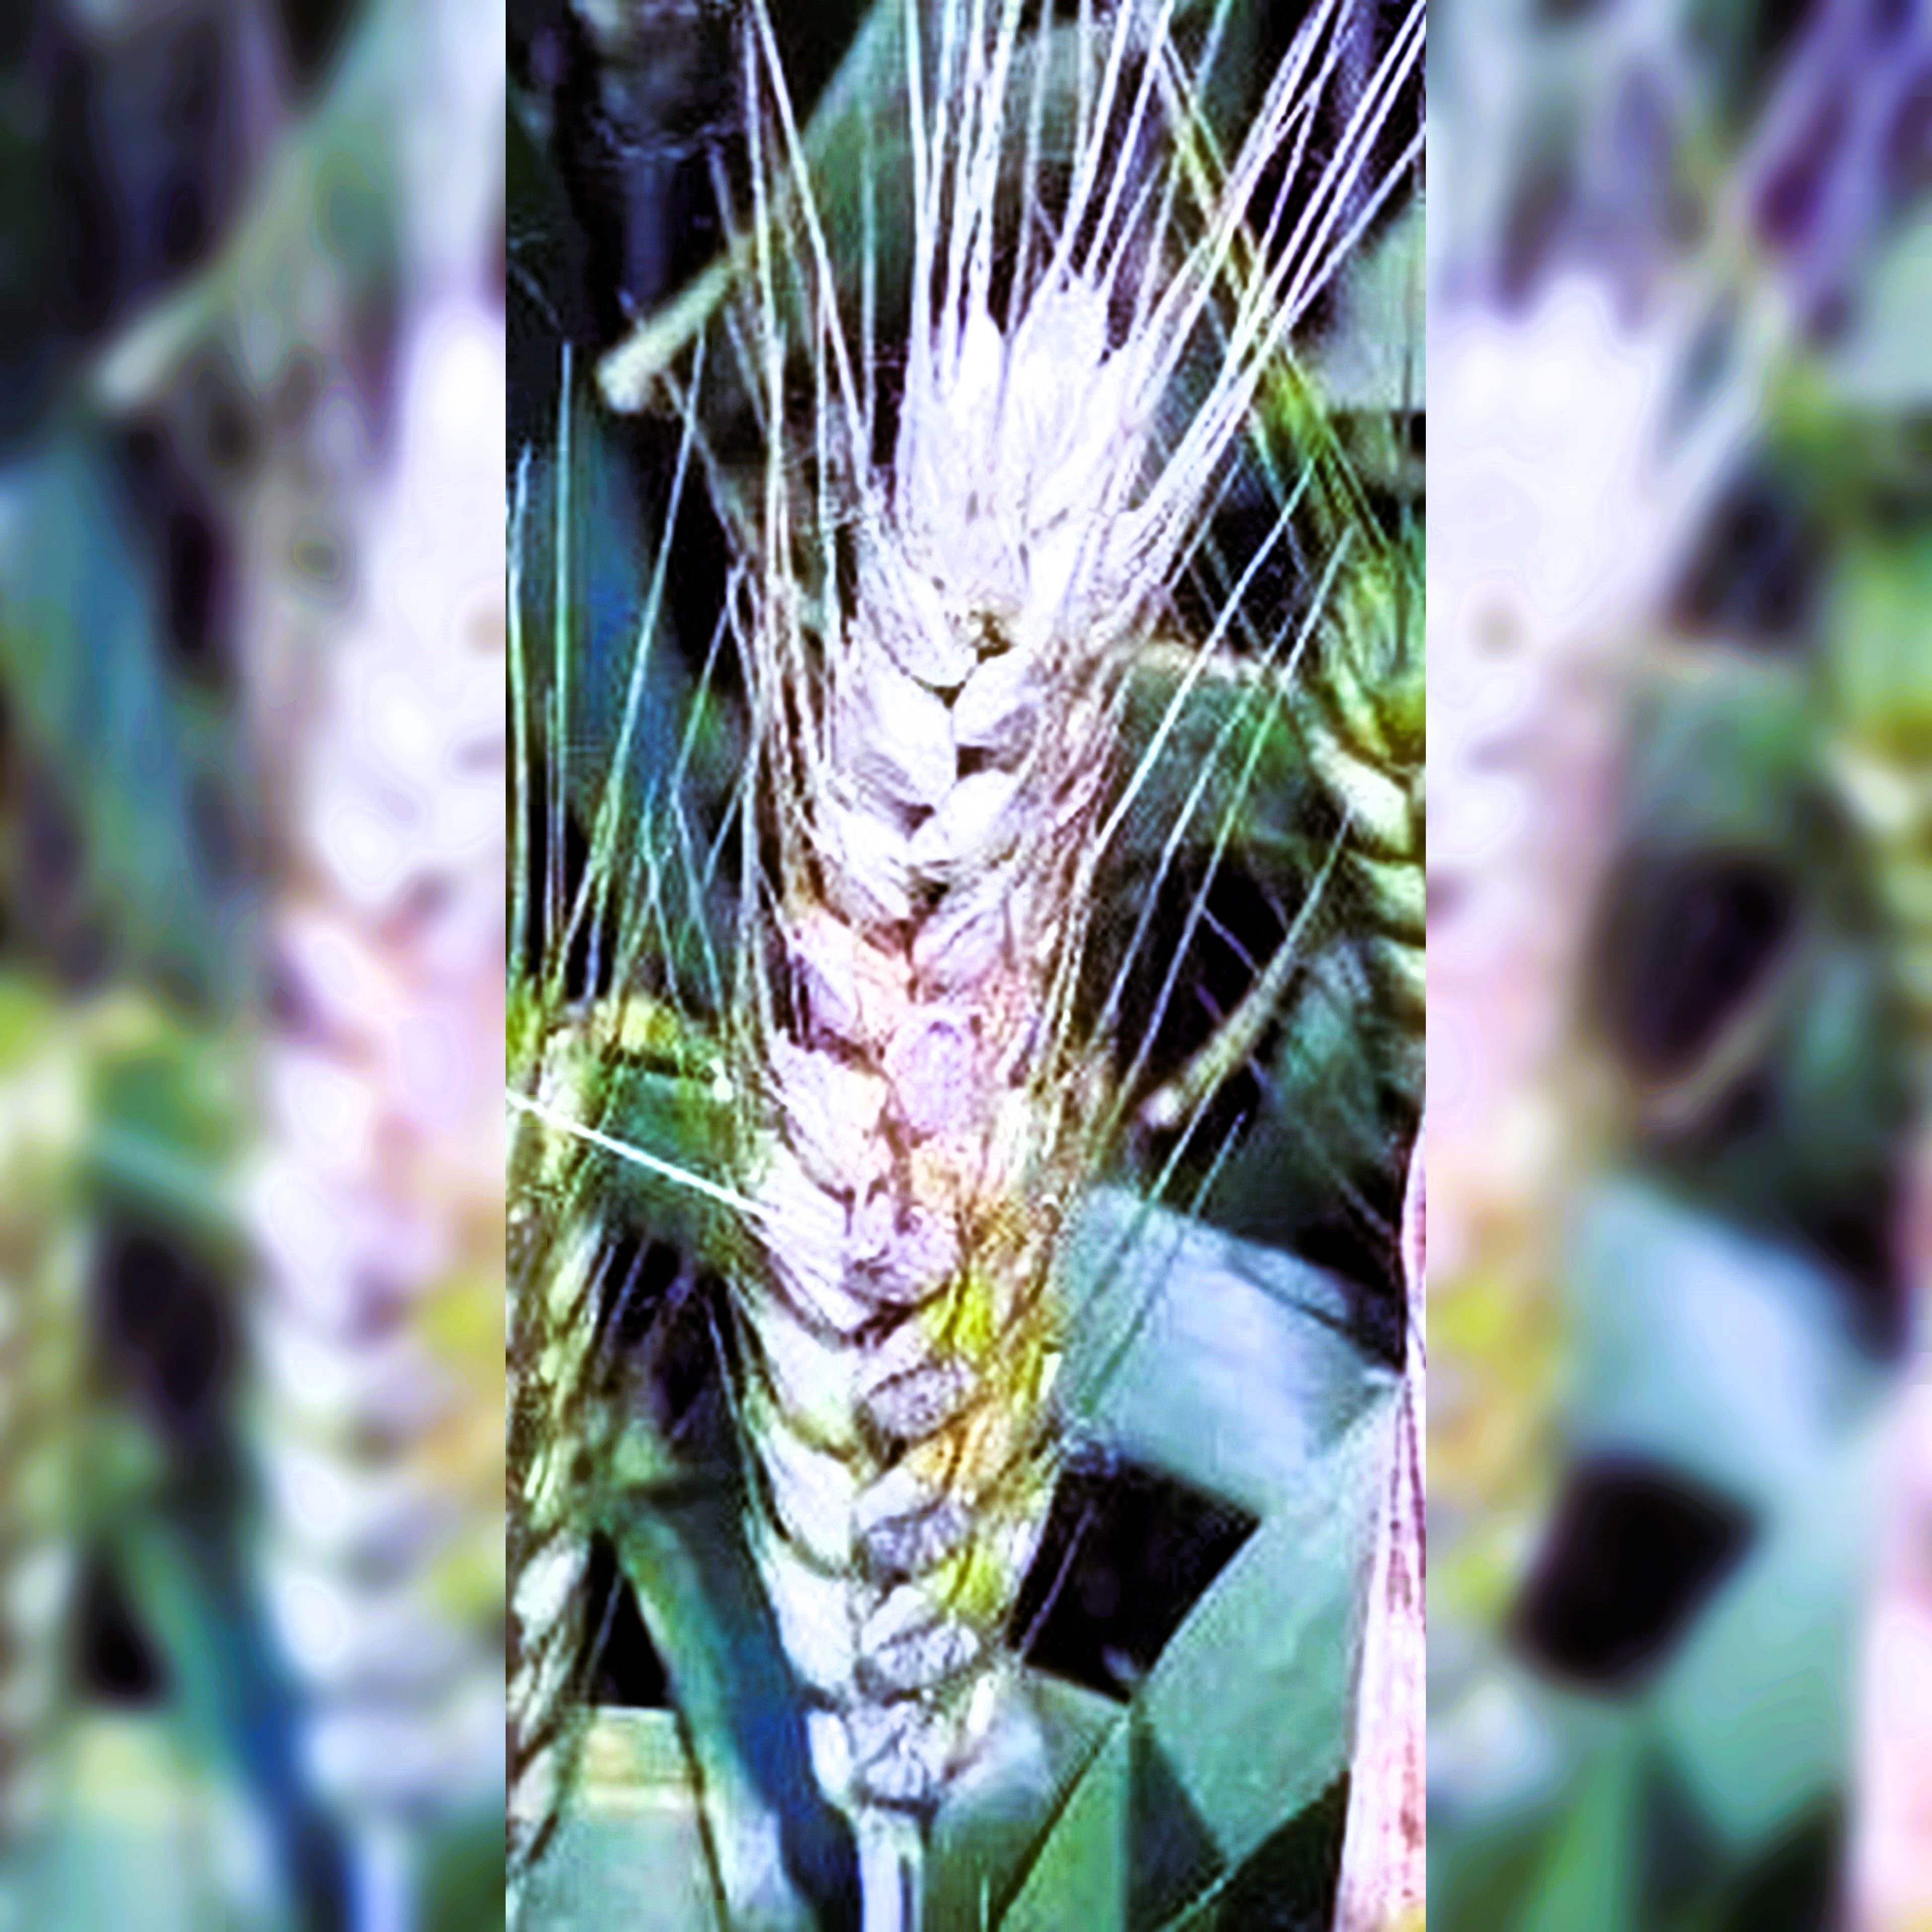Wheat scab: (709, 674, 1115, 1628)
